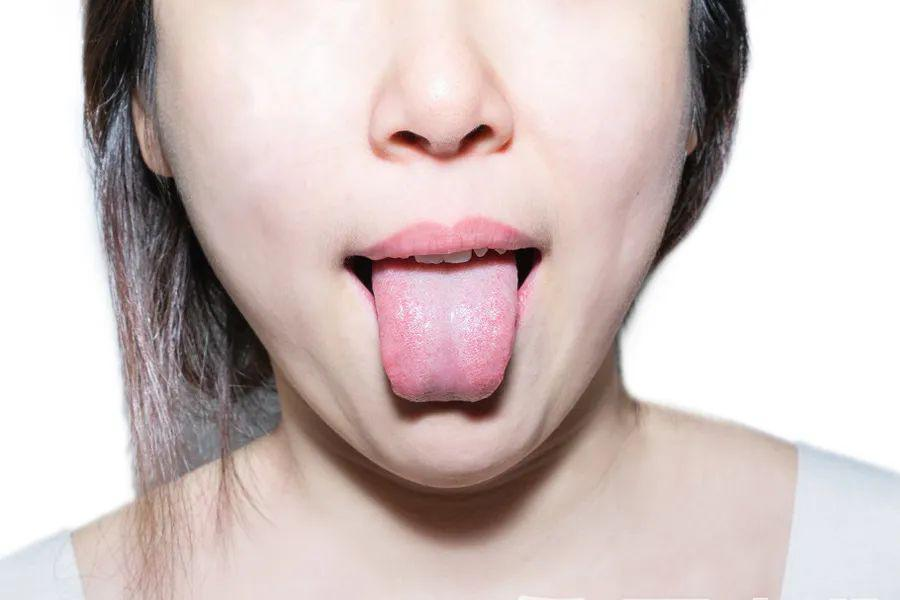baitaishe: (371, 255, 518, 403)
